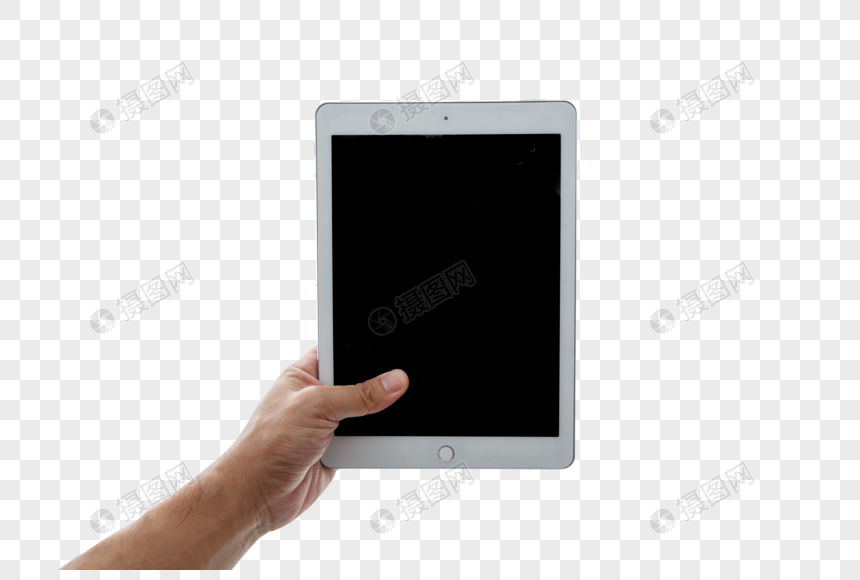pad: (225, 94, 590, 532)
